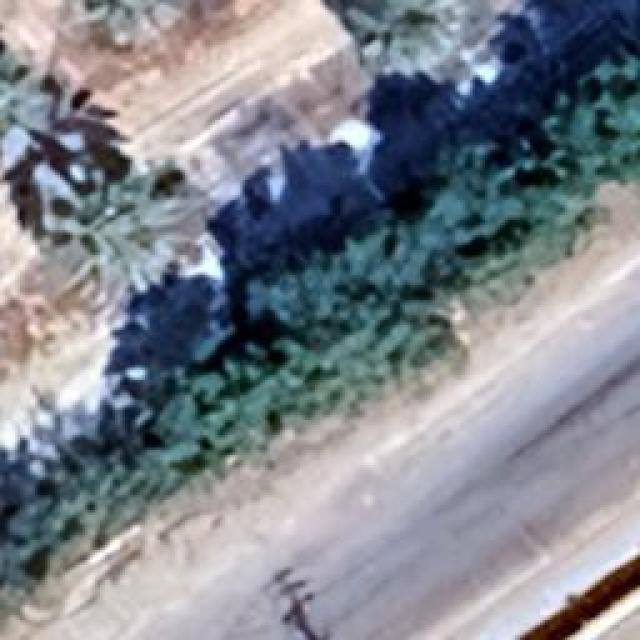PalmTree: (35, 188, 163, 322), (331, 0, 471, 72), (0, 34, 55, 166), (75, 0, 190, 45)
